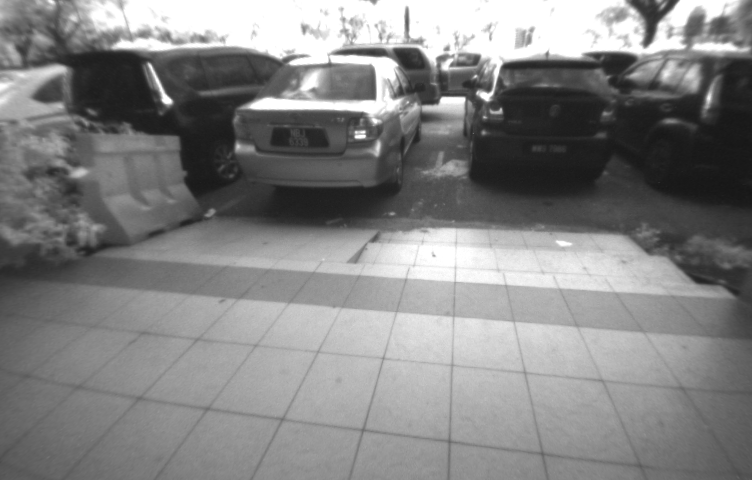down_steps: (352, 217, 741, 318)
mixed_gradient: (312, 208, 413, 289)
